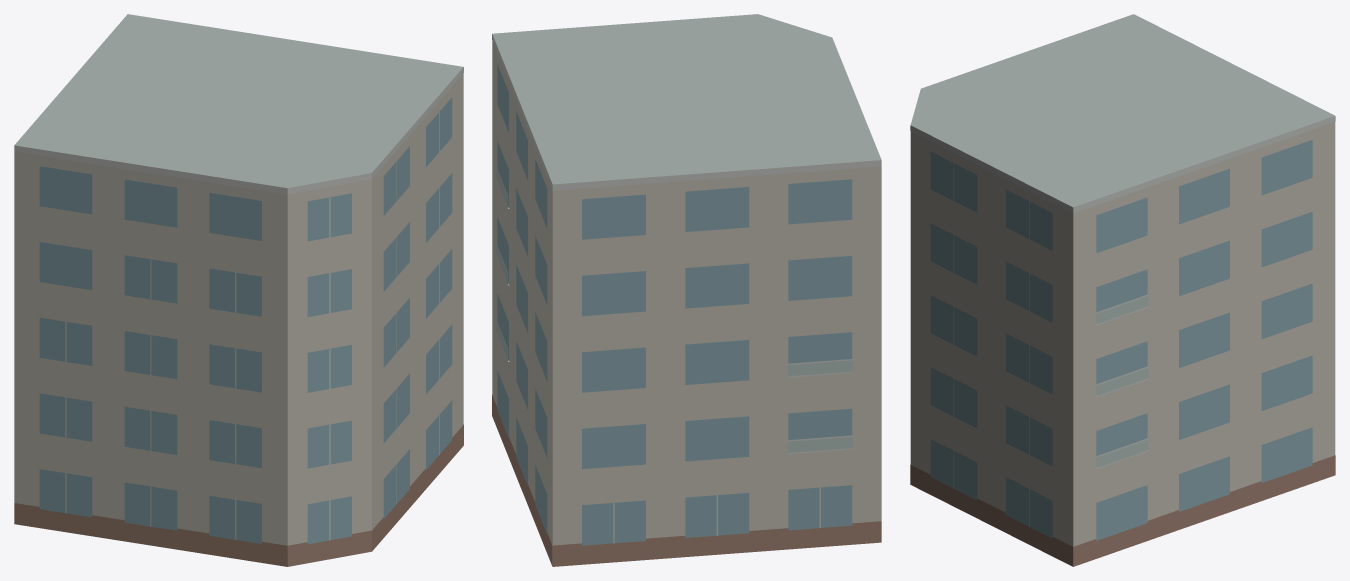
File: survey-upis-32681672.glb
The picture shows the model from 3 angles, left to right: view 1: azimuth 30°, elevation 25°; view 2: azimuth 150°, elevation 25°; view 3: azimuth 270°, elevation 25°; orthographic projection. The views are drawn at different scales.
Visible parts, largest first — view 1: survey-upis-32681672.tmp; view 2: survey-upis-32681672.tmp; view 3: survey-upis-32681672.tmp.
Boxes of the visible parts, box(x1,y1,x2,y2) form: survey-upis-32681672.tmp: box(14, 14, 463, 566); survey-upis-32681672.tmp: box(492, 14, 881, 566); survey-upis-32681672.tmp: box(910, 14, 1335, 566).
Size of the model in its own units: 17.15 by 14.85 by 15.92.
